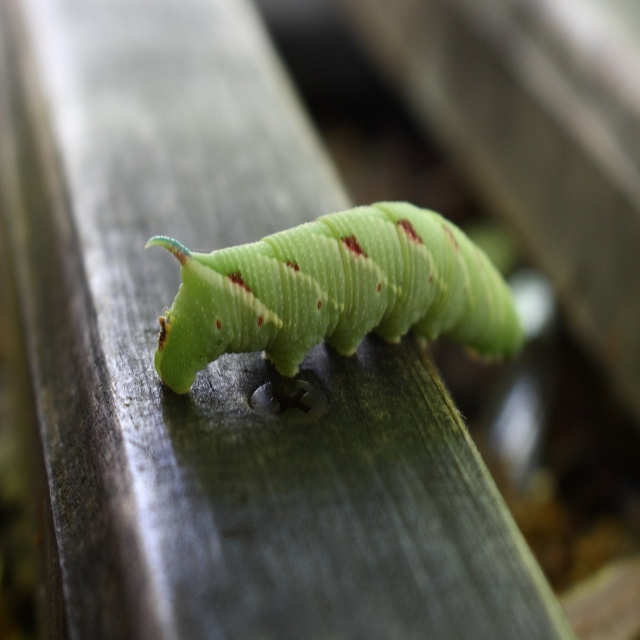Caterpillar: (145, 233, 528, 395)
